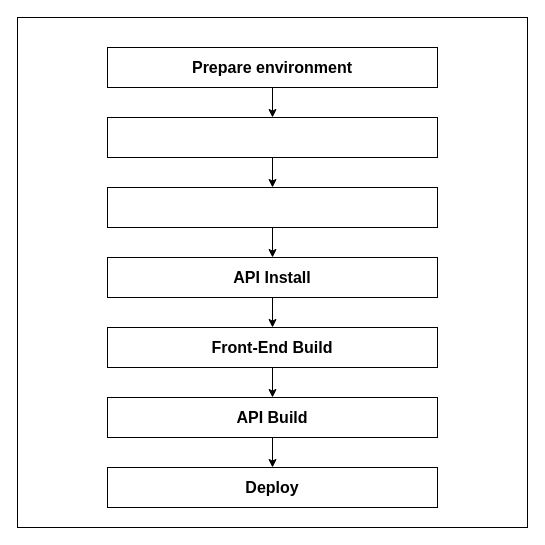
Some shapes in this 545 by 545 pixel diagram are drawn without their labels. Each missing label, with the centre of its shape:
Check out code: point 272,137
Front-End Install: point 272,207
